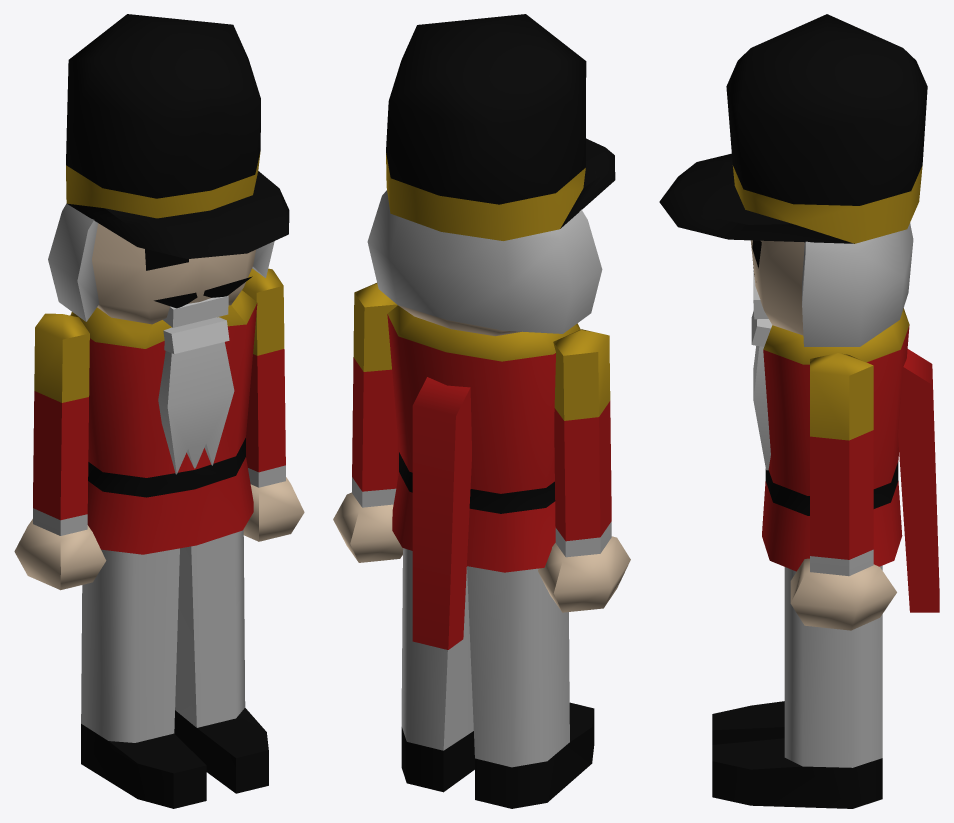
Rendered from grenade_Nutcracker.glb.
3 renders of one model, left to right at view 1: azimuth 30°, elevation 25°; view 2: azimuth 150°, elevation 25°; view 3: azimuth 270°, elevation 25°, orthographic. The views are drawn at different scales.
Parts seen in each view (by area): view 1: grenade_Nutcracker; view 2: grenade_Nutcracker; view 3: grenade_Nutcracker.
Boxes of the visible parts, bbox=[...] form: grenade_Nutcracker: bbox=[14, 14, 304, 808]; grenade_Nutcracker: bbox=[333, 14, 630, 808]; grenade_Nutcracker: bbox=[659, 14, 939, 808].
Bounding box in the file's own units: 0.0657 × 0.1685 × 0.0578.
